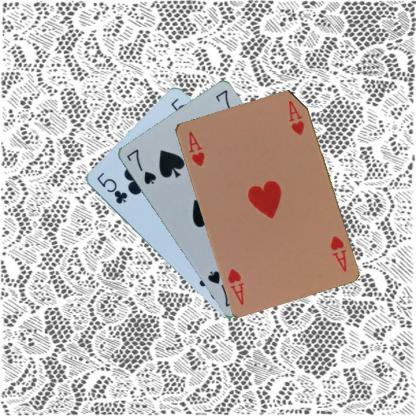5c: (94, 169, 128, 206)
7s: (123, 146, 157, 186)
Ah: (326, 232, 348, 273), (186, 128, 206, 168)
